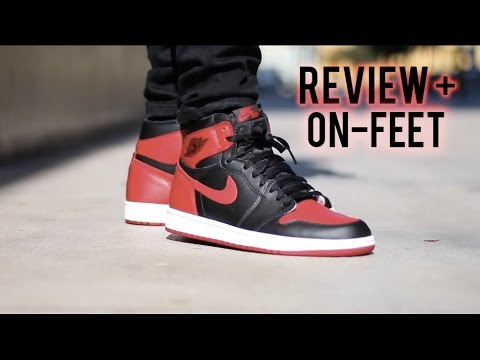Air Jordan 1 Bred: (166, 104, 381, 260)
